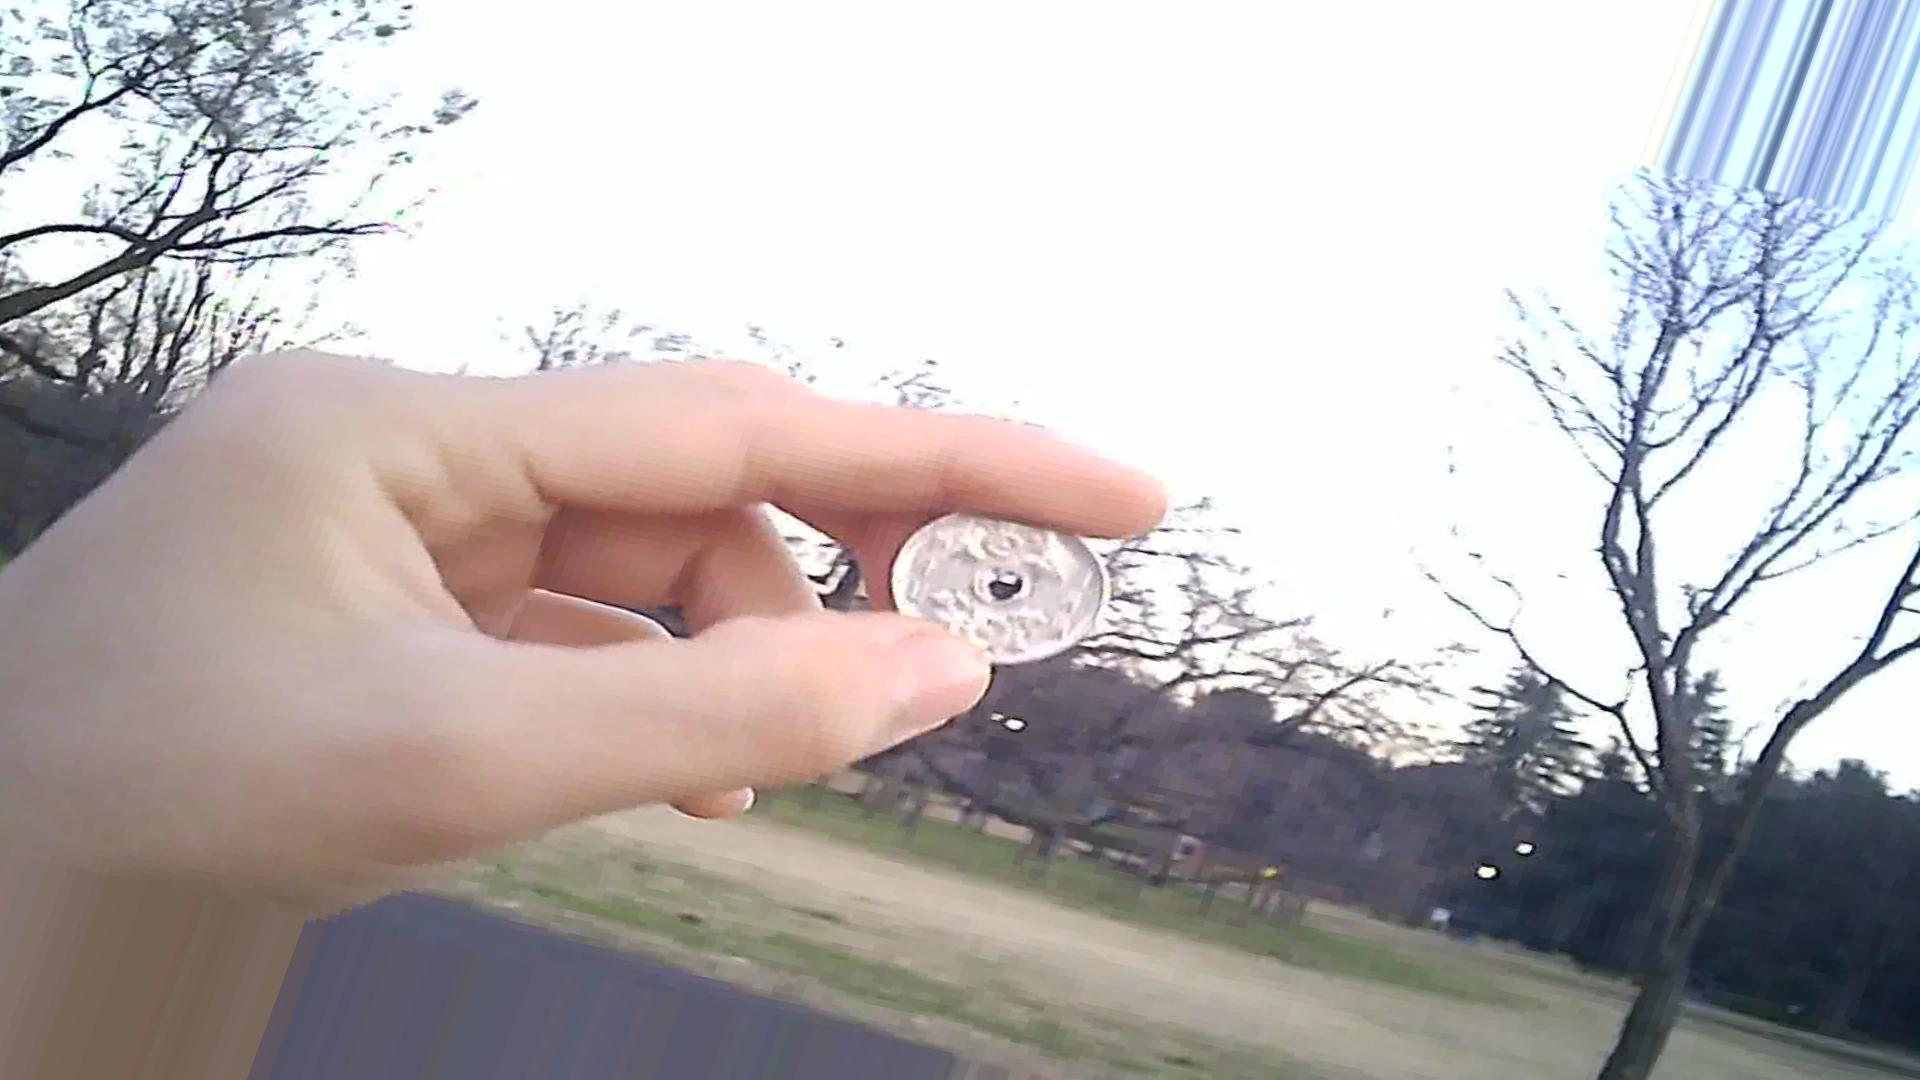50 Yen: (887, 488, 1122, 688)
